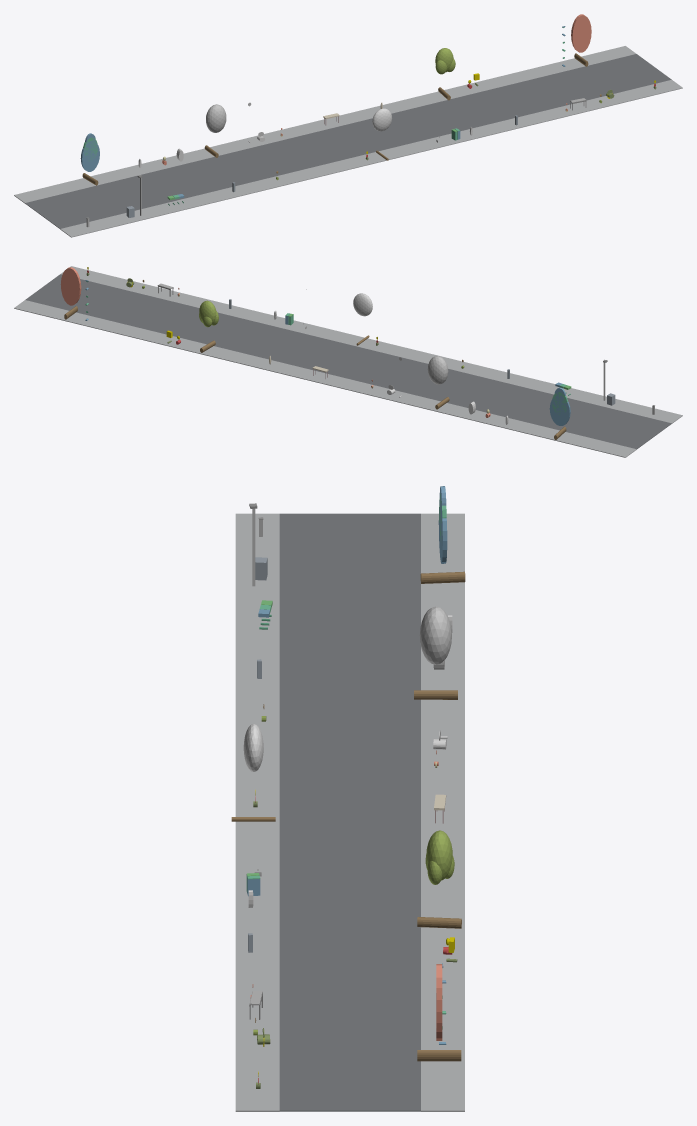
The picture shows the model from 3 angles, top to bottom: view 1: azimuth 30°, elevation 25°; view 2: azimuth 150°, elevation 25°; view 3: azimuth 270°, elevation 25°; orthographic projection. The views are drawn at different scales.
Parts seen in each view (by area): view 1: road_slab, sidewalk_left, sidewalk_right, inst_0016, inst_0012, inst_0013, inst_0015, inst_0014; view 2: road_slab, sidewalk_right, sidewalk_left, inst_0016, inst_0012, inst_0013, inst_0015, inst_0014; view 3: road_slab, sidewalk_left, sidewalk_right, inst_0013, inst_0015, inst_0012, inst_0016, inst_0014.
Part boxes in pixels (x1=…): road_slab: x1=25, y1=54, x2=671, y2=228; sidewalk_left: x1=60, y1=80, x2=682, y2=237; sidewalk_right: x1=14, y1=46, x2=636, y2=203; inst_0016: x1=571, y1=14, x2=591, y2=66; inst_0012: x1=80, y1=133, x2=99, y2=185; inst_0013: x1=204, y1=104, x2=226, y2=157; inst_0015: x1=435, y1=48, x2=455, y2=100; inst_0014: x1=372, y1=108, x2=391, y2=160; road_slab: x1=25, y1=274, x2=671, y2=449; sidewalk_right: x1=14, y1=300, x2=636, y2=457; sidewalk_left: x1=60, y1=266, x2=682, y2=423; inst_0016: x1=60, y1=267, x2=81, y2=319; inst_0012: x1=549, y1=387, x2=570, y2=439; inst_0013: x1=427, y1=356, x2=449, y2=409; inst_0015: x1=199, y1=300, x2=218, y2=352; inst_0014: x1=353, y1=293, x2=372, y2=345; road_slab: x1=279, y1=513, x2=420, y2=1111; sidewalk_left: x1=235, y1=513, x2=279, y2=1111; sidewalk_right: x1=421, y1=513, x2=464, y2=1111; inst_0013: x1=414, y1=606, x2=457, y2=699; inst_0015: x1=417, y1=830, x2=461, y2=928; inst_0012: x1=420, y1=486, x2=465, y2=583; inst_0016: x1=417, y1=964, x2=461, y2=1061; inst_0014: x1=231, y1=724, x2=275, y2=821.
Bounding box in the file's own units: 80 × 6.08 × 13.24.
